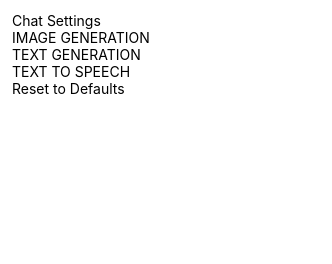
Scenario: GenerationSettingsModal › opens image model picker and shows downloaded image models
Click the text "IMAGE GENERATION" at (81, 38), box [12, 29, 150, 46]
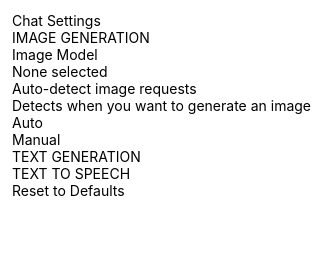
Click the text "None selected" at (60, 72), box [12, 63, 108, 80]
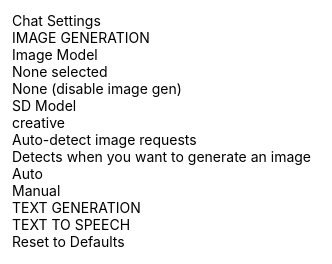
Now the text "SD Model" is shown, box [12, 97, 76, 114]
Now the text "None (disable image gen)" is shown, box [12, 80, 182, 97]
